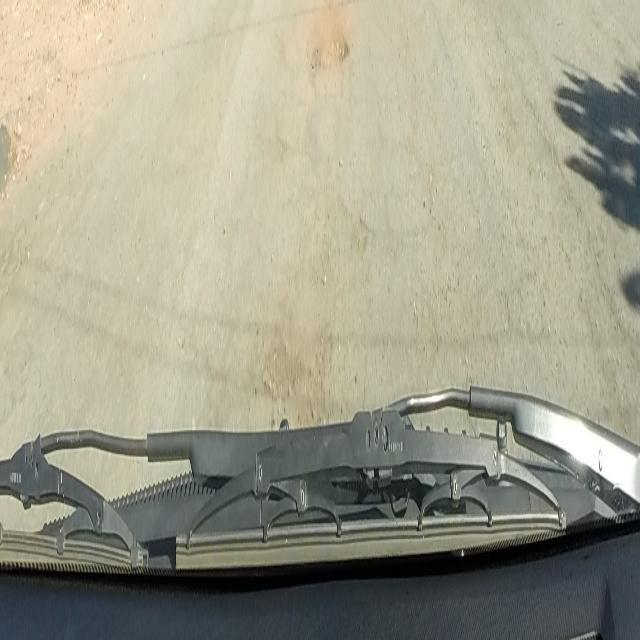pothole: (310, 21, 350, 77)
